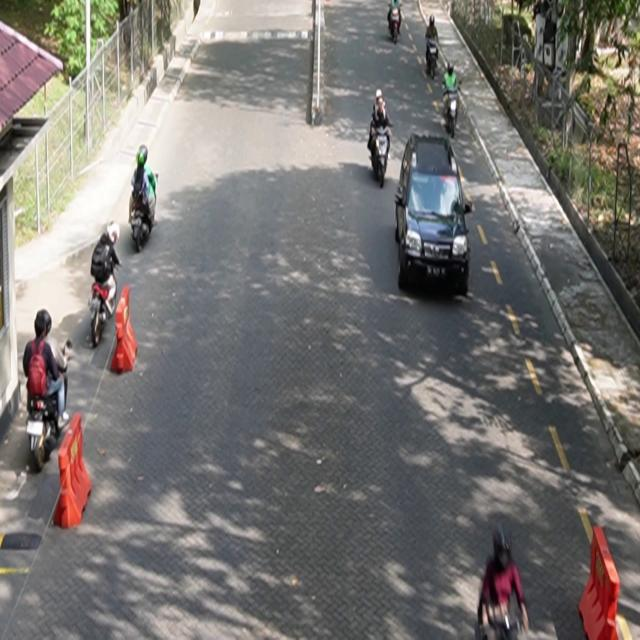car: (395, 133, 473, 296)
